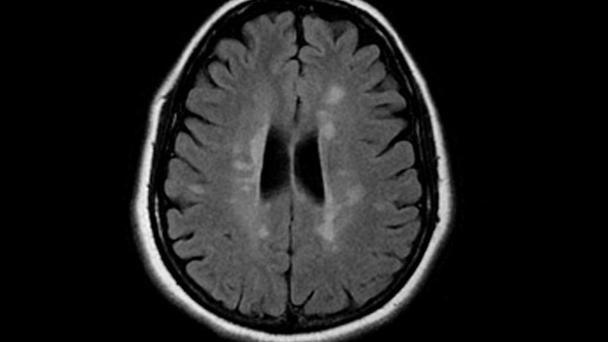Normal_Brain: (1, 1, 520, 342)
